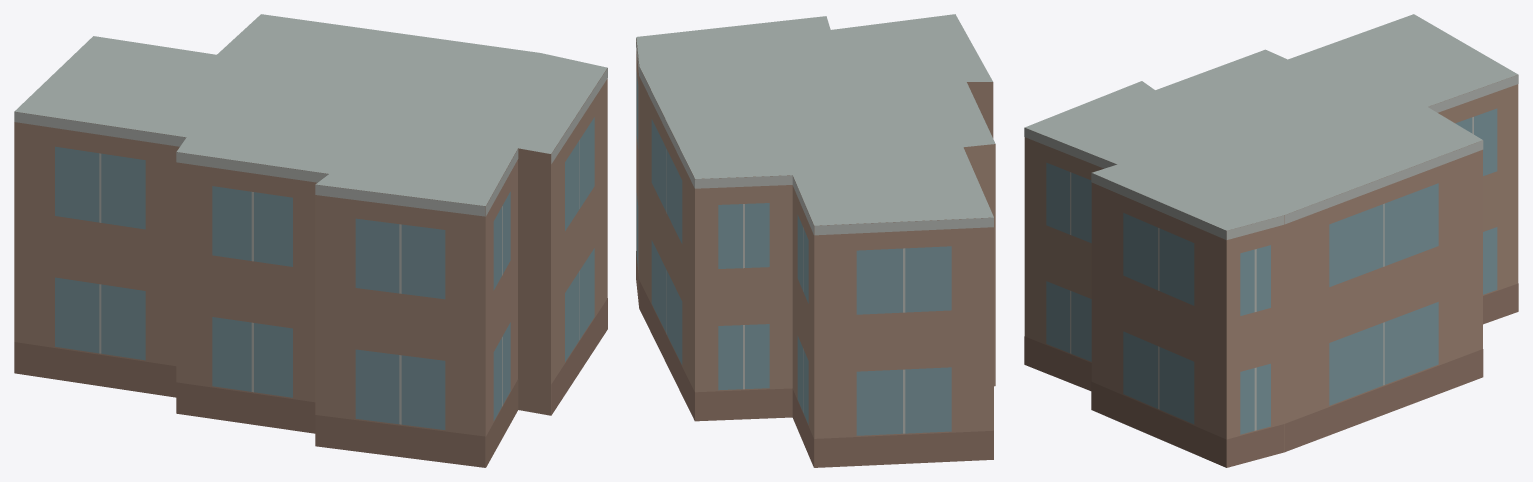
File: survey-upis-33038320.glb
3 renders of one model, left to right at view 1: azimuth 30°, elevation 25°; view 2: azimuth 150°, elevation 25°; view 3: azimuth 270°, elevation 25°, orthographic. The views are drawn at different scales.
Parts seen in each view (by area): view 1: survey-upis-33038320.tmp; view 2: survey-upis-33038320.tmp; view 3: survey-upis-33038320.tmp.
Boxes of the visible parts, x1,y1,x2,y2 form: survey-upis-33038320.tmp: (14,14,607,467); survey-upis-33038320.tmp: (636,14,995,467); survey-upis-33038320.tmp: (1024,14,1518,467).
Bounding box in the file's own units: 11.96 × 6.1 × 11.52.
